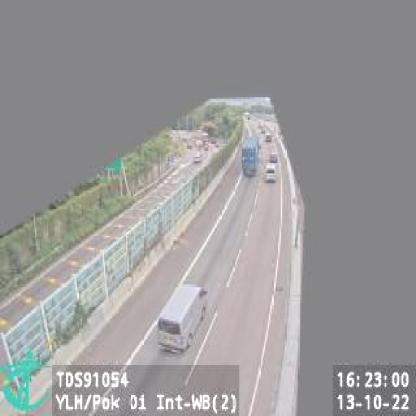Car: (155, 283, 208, 356), (265, 164, 277, 183), (270, 150, 279, 164), (265, 132, 273, 143)
Truck: (239, 136, 260, 179)
